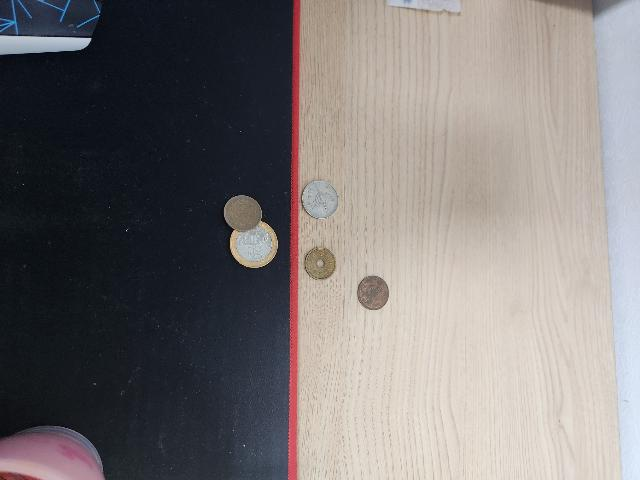coin: (230, 222, 276, 268), (222, 194, 264, 230), (302, 180, 338, 220), (356, 275, 389, 309), (306, 246, 336, 280)
